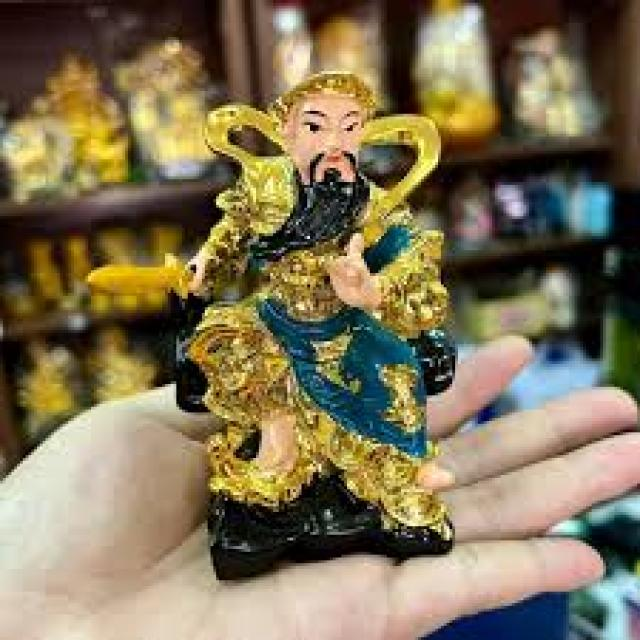Xuan wu: (180, 68, 448, 500)
